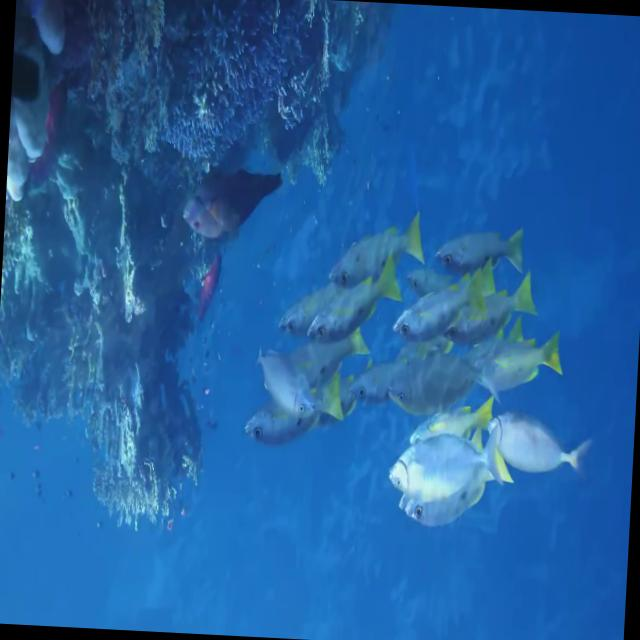fish: (305, 248, 403, 352), (385, 419, 501, 506), (384, 340, 504, 420), (242, 362, 344, 452), (391, 259, 486, 347), (326, 210, 424, 294), (487, 411, 592, 477), (465, 329, 565, 396), (443, 281, 538, 349), (251, 341, 318, 422), (434, 223, 526, 278)
